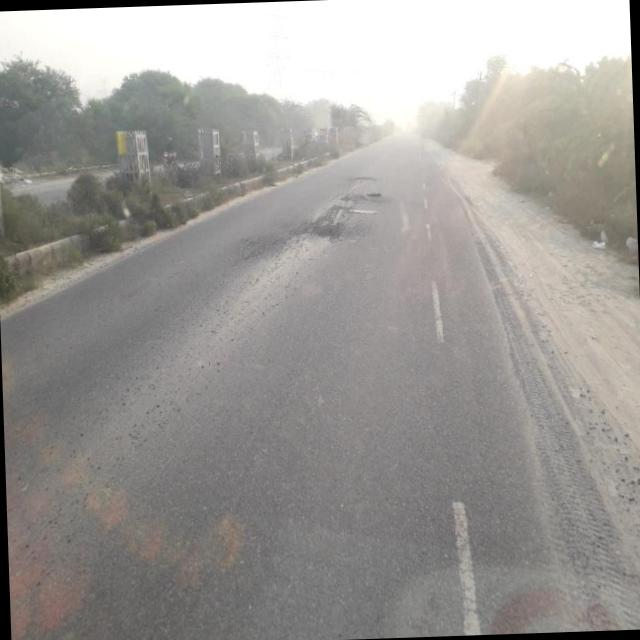crack: (226, 214, 304, 266)
pothole: (344, 167, 380, 186)
